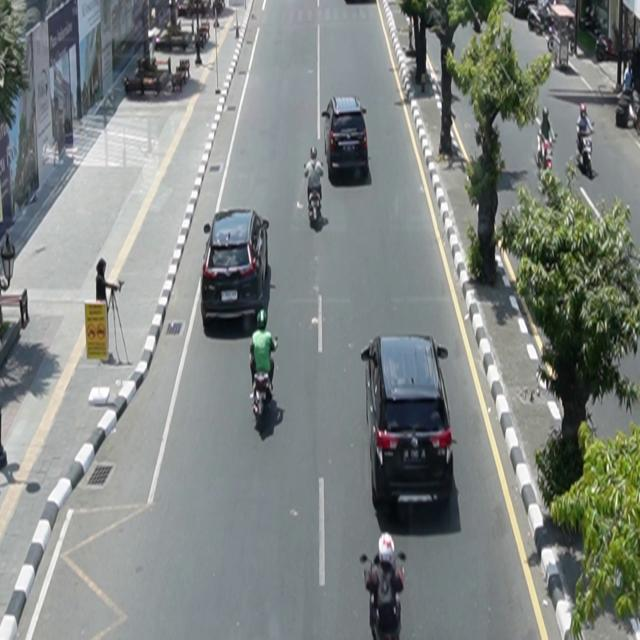car: (362, 334, 455, 511), (202, 208, 270, 329), (322, 95, 369, 180)
